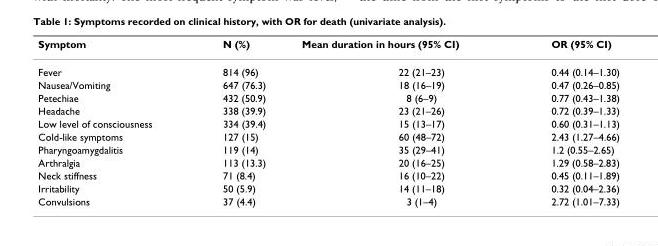table: (37, 37, 618, 207)
table column: (283, 37, 504, 207), (37, 37, 186, 207), (504, 37, 618, 207), (186, 37, 283, 207)
table column header: (37, 37, 618, 57)
table row: (37, 57, 618, 78), (37, 37, 618, 57), (37, 78, 618, 91), (37, 103, 618, 116), (37, 116, 618, 129), (37, 129, 618, 142), (37, 142, 618, 155), (37, 155, 618, 168), (37, 168, 618, 181), (37, 181, 618, 194), (37, 194, 618, 207), (37, 91, 618, 103)
